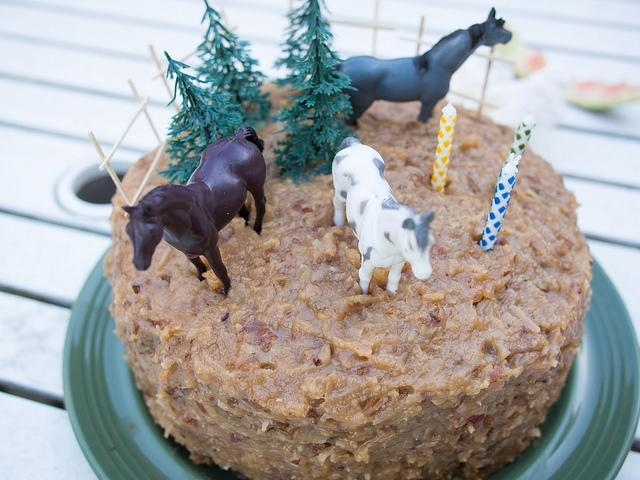watermelon: (516, 54, 639, 111)
